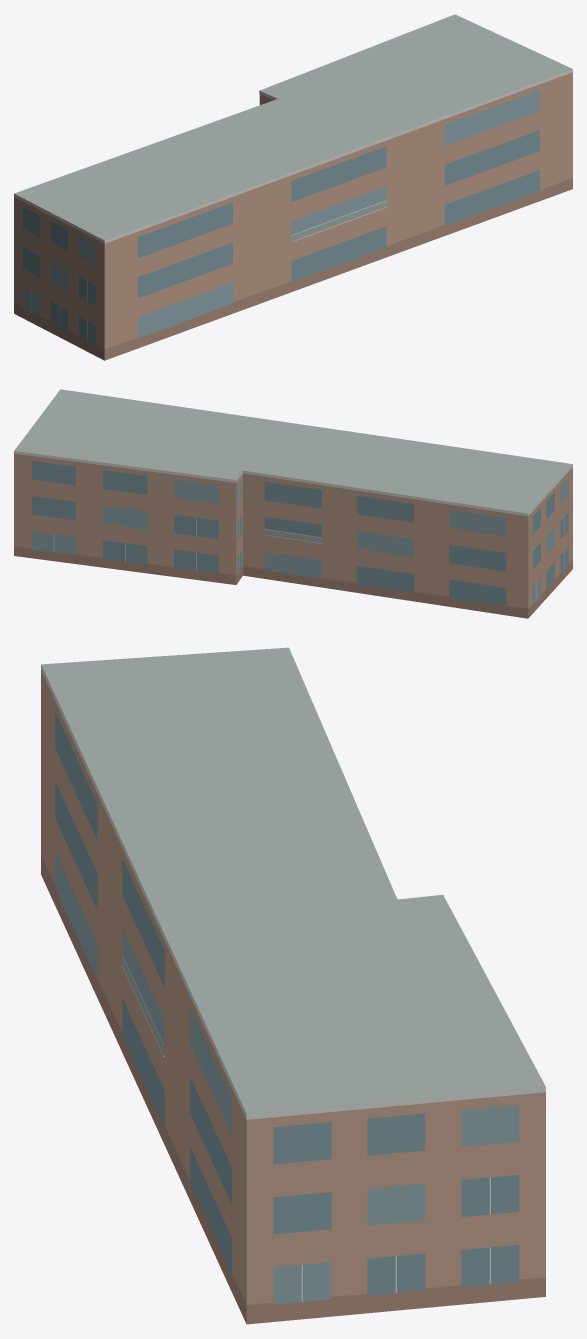
File: survey-upis-32466037.glb
The picture shows the model from 3 angles, top to bottom: view 1: azimuth 30°, elevation 25°; view 2: azimuth 150°, elevation 25°; view 3: azimuth 270°, elevation 25°; orthographic projection. The views are drawn at different scales.
Parts seen in each view (by area): view 1: survey-upis-32466037.tmp; view 2: survey-upis-32466037.tmp; view 3: survey-upis-32466037.tmp.
Boxes of the visible parts, left/top/right/bottom form: survey-upis-32466037.tmp: left=14, top=14, right=572, bottom=360; survey-upis-32466037.tmp: left=14, top=389, right=572, bottom=618; survey-upis-32466037.tmp: left=41, top=647, right=545, bottom=1324.
Bounding box in the file's own units: 43.6 × 9.15 × 19.93.
